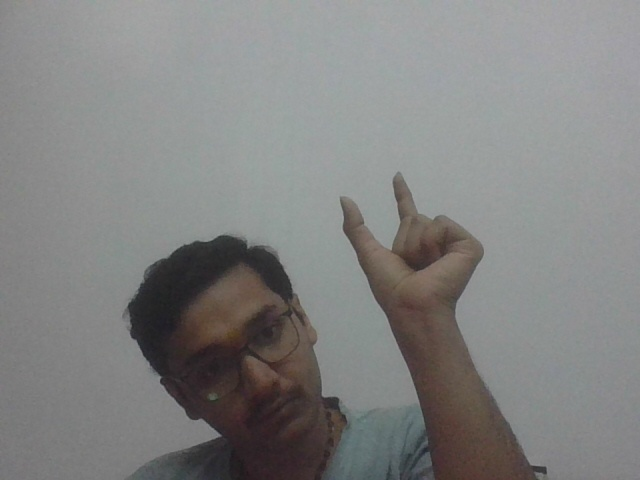U: (336, 169, 503, 315)
